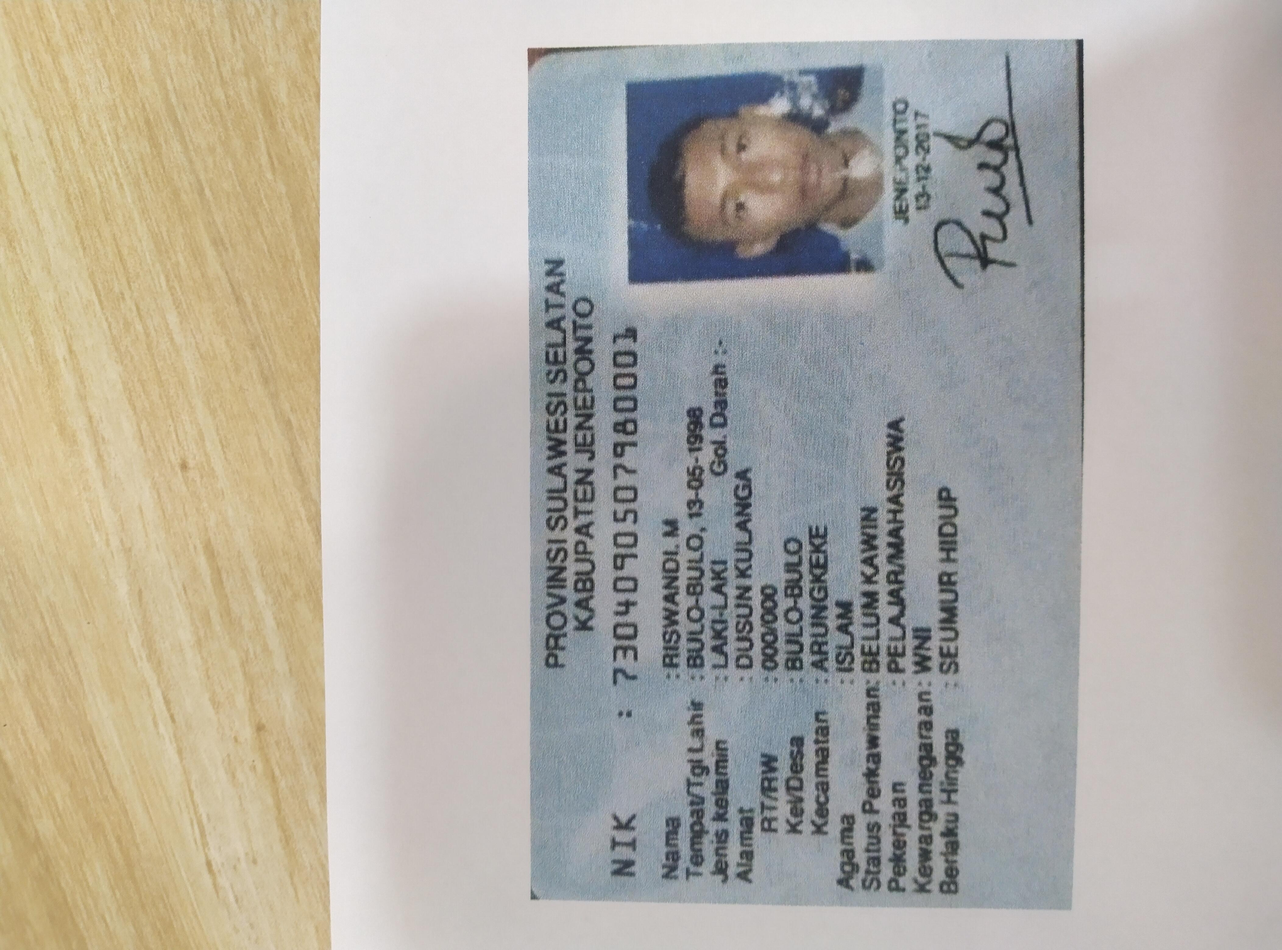ID-card: (60, 388, 1225, 803)
